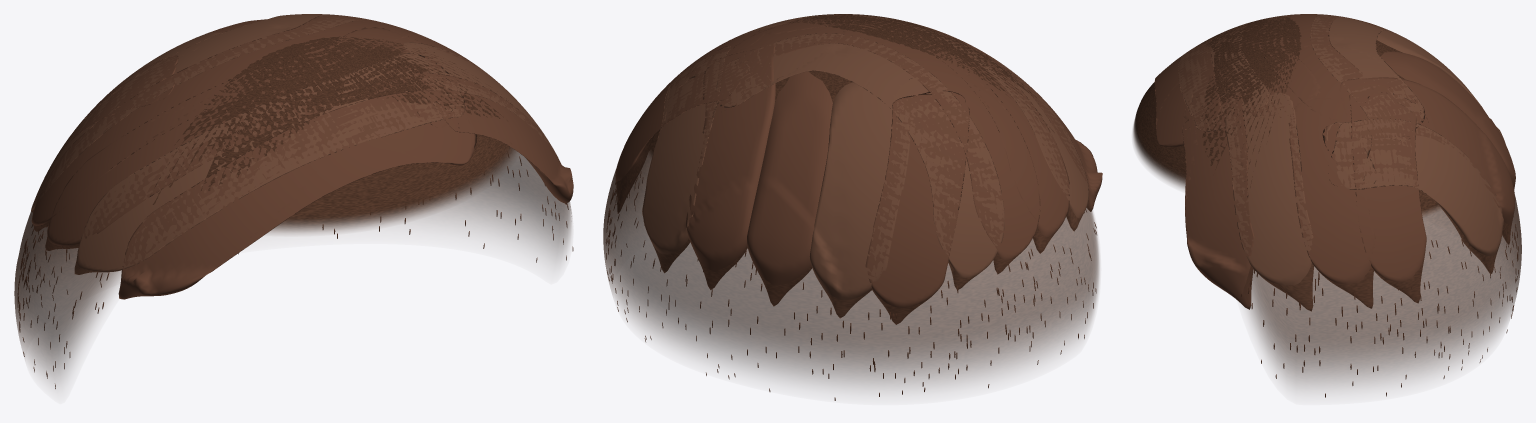
File: Masculine-taper-cap251-hair.glb
3 renders of one model, left to right at view 1: azimuth 30°, elevation 25°; view 2: azimuth 150°, elevation 25°; view 3: azimuth 270°, elevation 25°, orthographic. The views are drawn at different scales.
Parts seen in each view (by area): view 1: 226 hair / Hair / main251.001, 226 hair / Hair / clipped grain251.001, 226 hair / Hair / close cut strokes251.001; view 2: 226 hair / Hair / main251.001, 226 hair / Hair / clipped grain251.001, 226 hair / Hair / close cut strokes251.001; view 3: 226 hair / Hair / main251.001, 226 hair / Hair / clipped grain251.001, 226 hair / Hair / close cut strokes251.001.
Boxes of the visible parts, bbox=[...] form: 226 hair / Hair / main251.001: bbox=[31, 14, 573, 299]; 226 hair / Hair / clipped grain251.001: bbox=[14, 31, 571, 384]; 226 hair / Hair / close cut strokes251.001: bbox=[17, 154, 573, 388]; 226 hair / Hair / main251.001: bbox=[615, 14, 1102, 324]; 226 hair / Hair / clipped grain251.001: bbox=[603, 14, 1099, 389]; 226 hair / Hair / close cut strokes251.001: bbox=[606, 173, 1096, 400]; 226 hair / Hair / main251.001: bbox=[1154, 14, 1515, 311]; 226 hair / Hair / clipped grain251.001: bbox=[1133, 16, 1521, 388]; 226 hair / Hair / close cut strokes251.001: bbox=[1241, 224, 1518, 397].
Bounding box in the file's own units: 0.9812 × 0.5824 × 0.752.
Materials: 4 (1 with a texture image).
